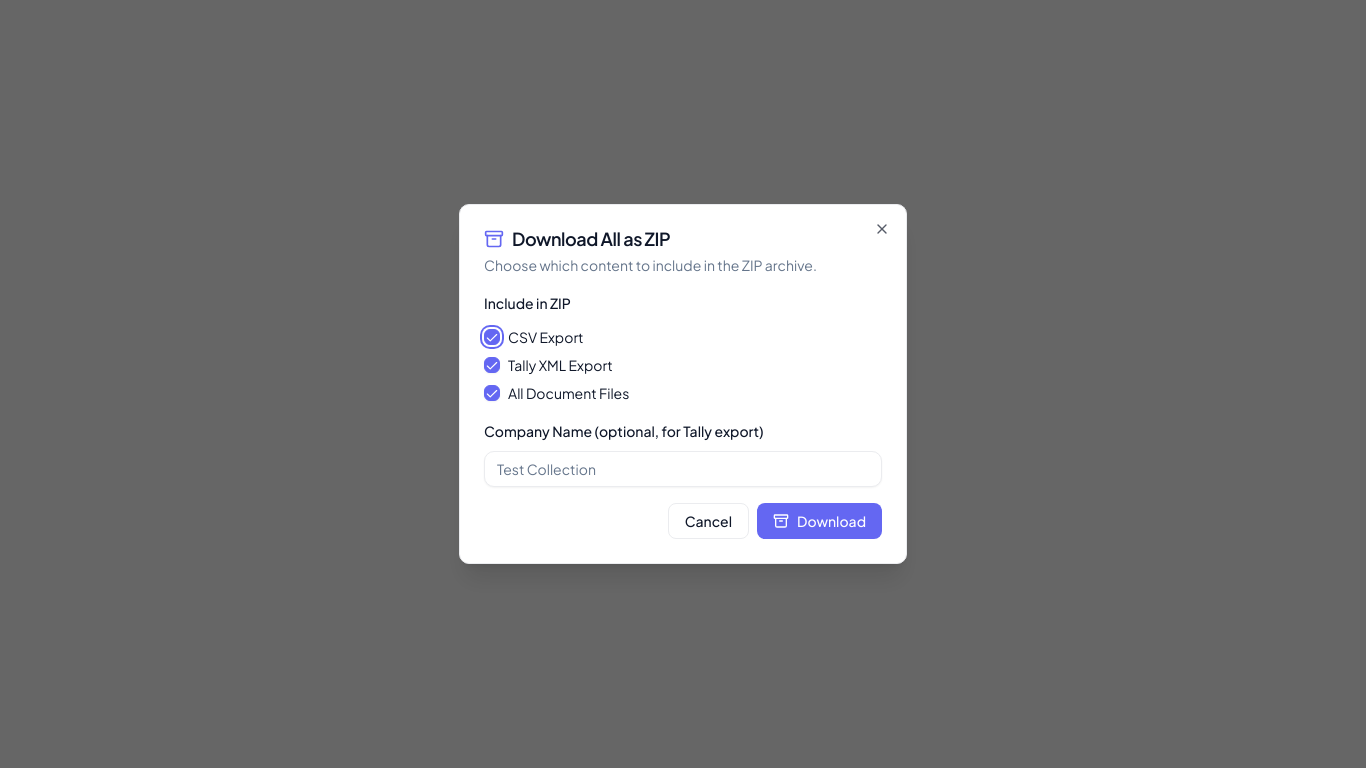
Test case: ZipExportDialog › hides company name input when Tally is unchecked
The width and height of the screenshot is (1366, 768).
Click the checkbox named "Tally XML Export" next to "Tally XML Export".
click(492, 365)  # box left=484, top=357, right=500, bottom=373
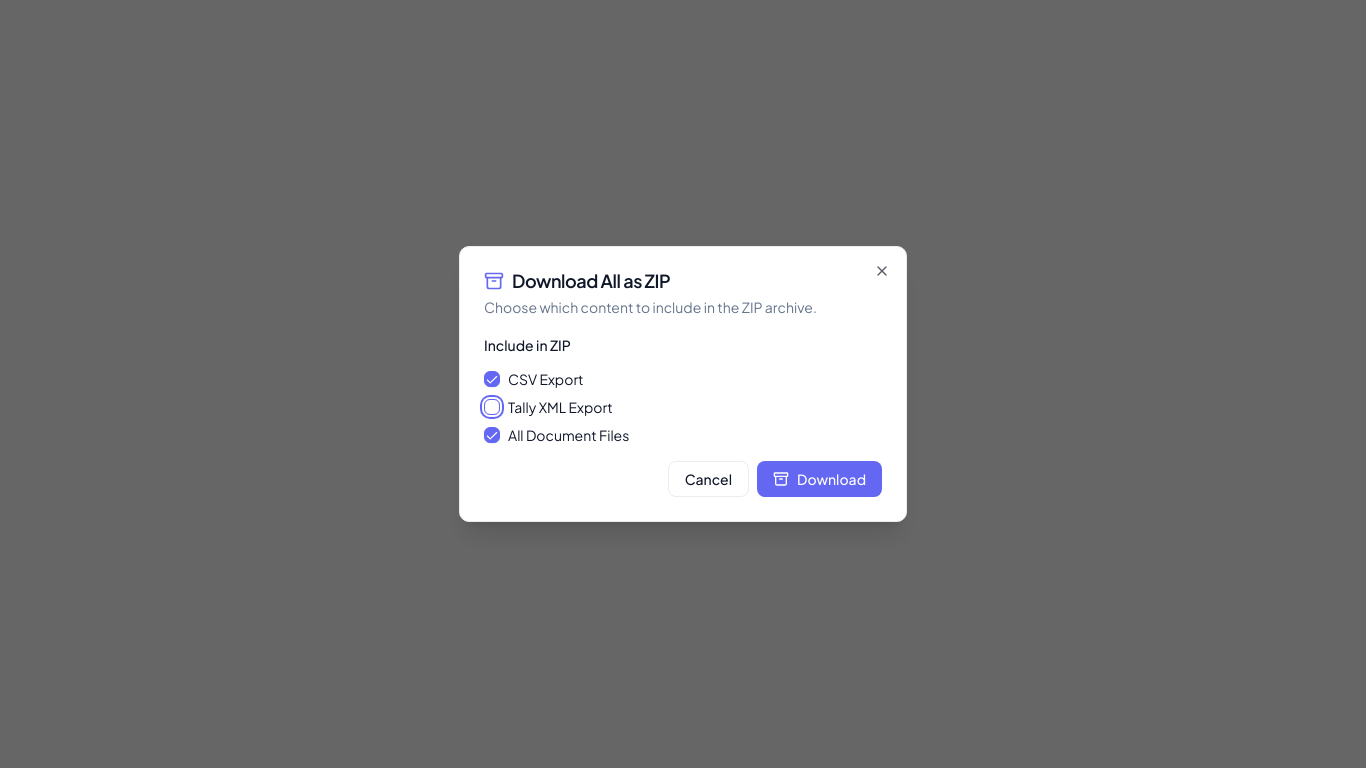
Result: the label labelled "Company Name" is gone
